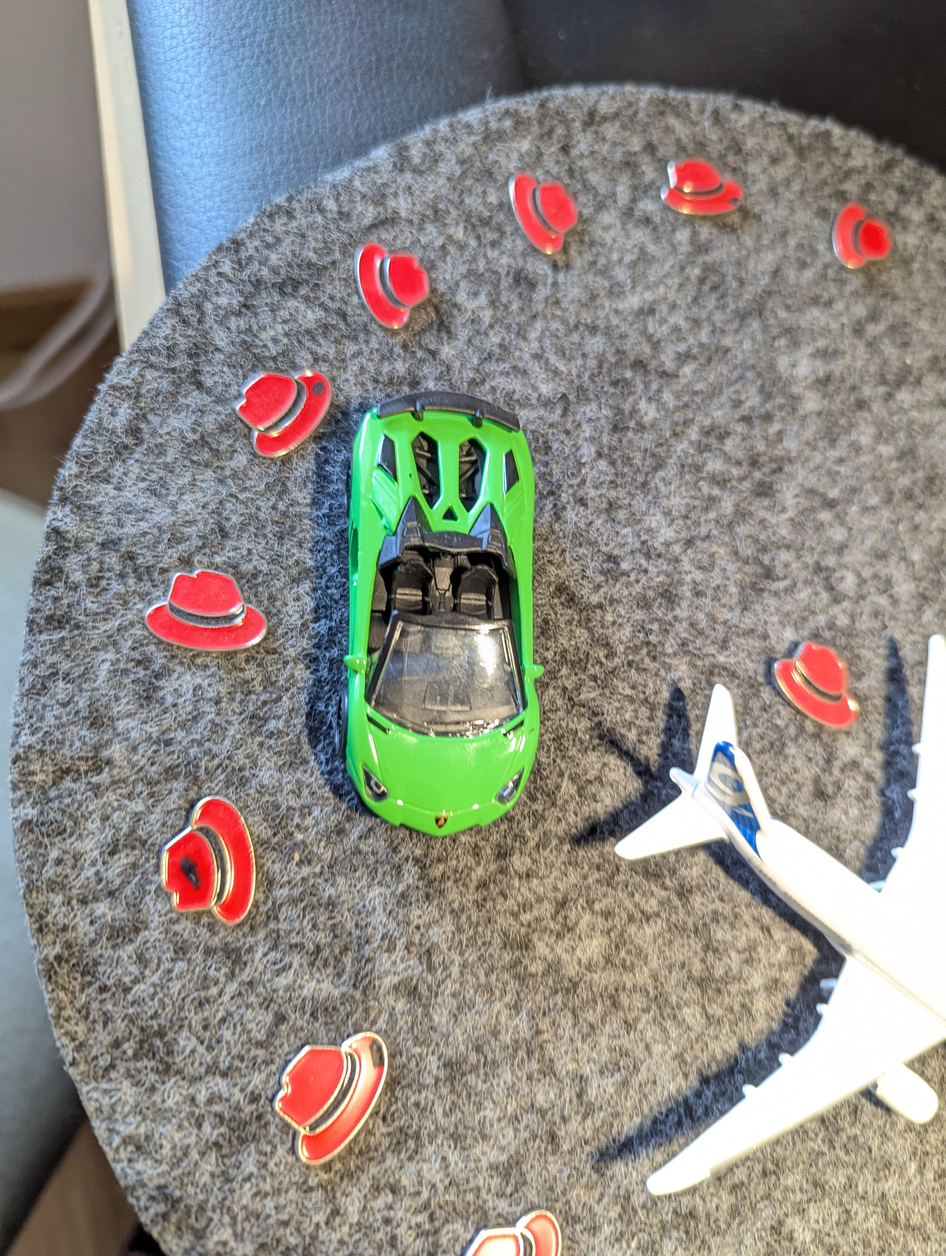Airplane: (586, 565, 946, 1215)
Car: (336, 372, 551, 847)
Red-Hat: (250, 1000, 430, 1189), (139, 778, 279, 951), (122, 548, 287, 692), (745, 622, 873, 745), (221, 350, 343, 467), (641, 141, 766, 242), (346, 232, 440, 340), (500, 161, 587, 268), (823, 185, 903, 292)
Scratch: (170, 844, 224, 901), (358, 1029, 401, 1080), (712, 191, 758, 222), (301, 371, 335, 402)
